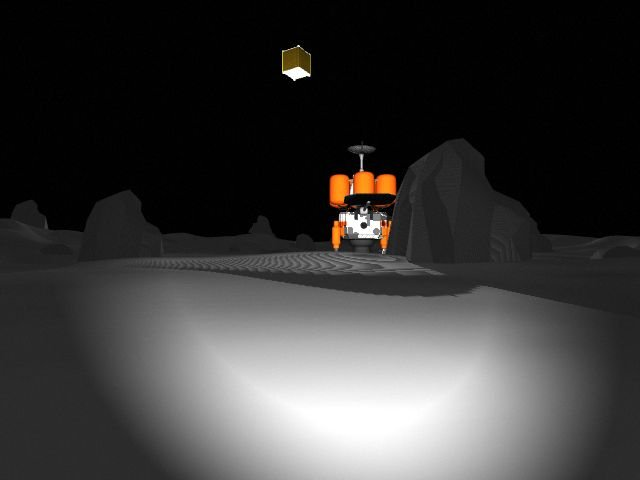cubesat: (279, 38, 314, 87)
